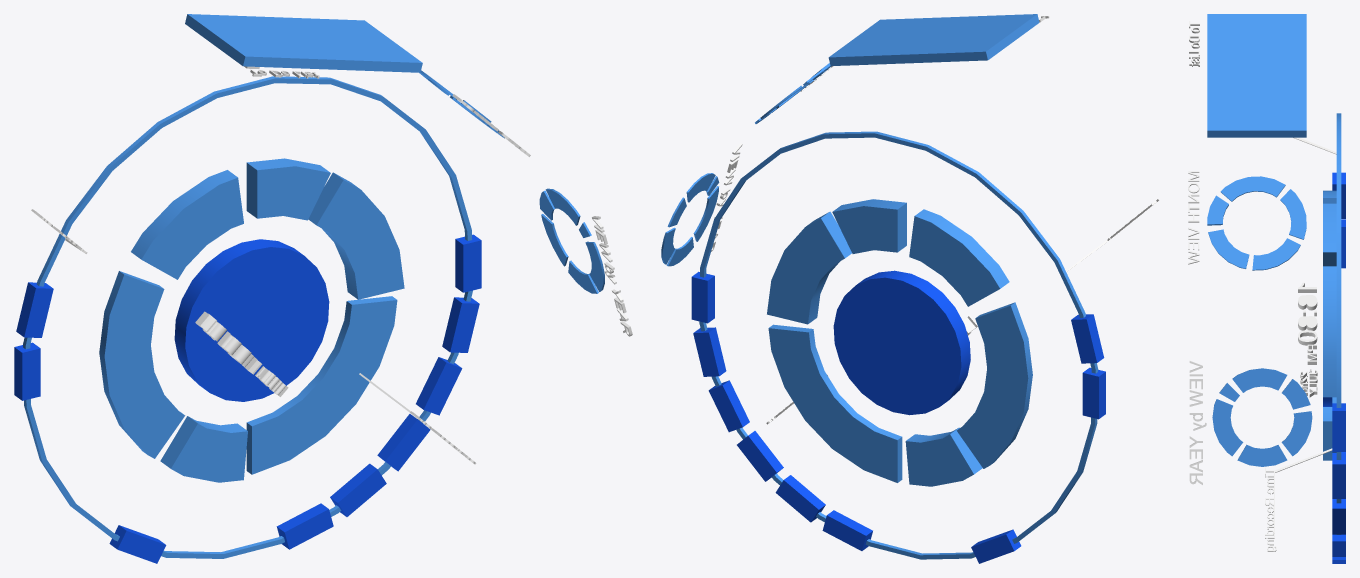
3 views of the same model, side by side, from view 1: azimuth 30°, elevation 25°; view 2: azimuth 150°, elevation 25°; view 3: azimuth 270°, elevation 25° (orthographic). The views are drawn at different scales.
Visible parts, largest first — view 1: Model; view 2: Model; view 3: Model.
Boxes of the visible parts, <box> form: Model: <box>14,14,632,563</box>; Model: <box>661,14,1159,563</box>; Model: <box>1188,14,1345,563</box>.
Size of the model in its own units: 6011 by 5983 by 1736.
